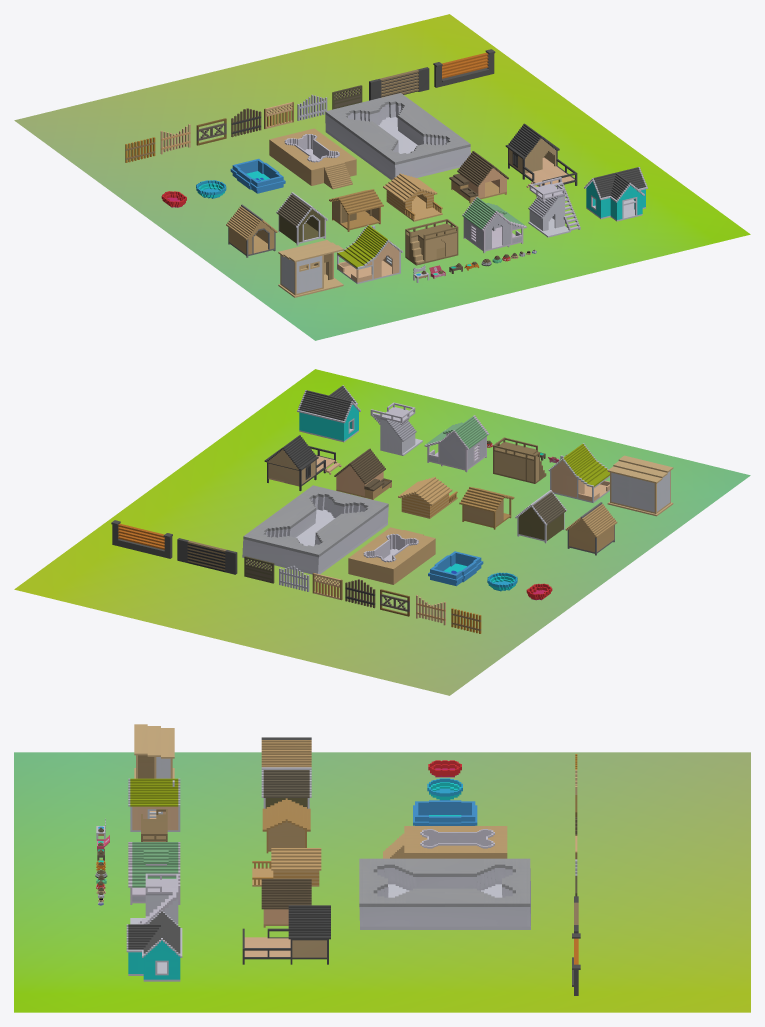
File: model_Simple Blocky Dog Houses Bowls And Pools Pack.fbx
The picture shows the model from 3 angles, top to bottom: view 1: azimuth 30°, elevation 25°; view 2: azimuth 150°, elevation 25°; view 3: azimuth 270°, elevation 25°; orthographic projection. The views are drawn at different scales.
Visible parts, largest first — view 1: grass, dog_pool_05, dog_pool_04, dog_house_07, dog_house_12, dog_house_08, dog_house_06, dog_house_10, dog_house_11, dog_house_09, dog_house_05, dog_house_04 (+12 smaller); view 2: grass, dog_pool_05, dog_pool_04, dog_house_07, dog_house_12, dog_house_08, dog_house_10, dog_house_06, dog_house_05, dog_house_09, dog_house_02, dog_house_01 (+12 smaller); view 3: grass, dog_pool_05, dog_pool_04, dog_house_06, dog_house_12, dog_house_08, dog_house_10, dog_house_07, dog_house_03, dog_house_04, dog_house_05, dog_house_02 (+6 smaller).
Boxes of the visible parts, x1=… form: grass: x1=14, y1=14, x2=750, y2=340; dog_pool_05: x1=325, y1=93, x2=470, y2=179; dog_pool_04: x1=269, y1=128, x2=356, y2=189; dog_house_07: x1=278, y1=240, x2=343, y2=297; dog_house_12: x1=584, y1=167, x2=647, y2=221; dog_house_08: x1=337, y1=225, x2=402, y2=283; dog_house_06: x1=505, y1=123, x2=577, y2=188; dog_house_10: x1=462, y1=197, x2=526, y2=253; dog_house_11: x1=528, y1=177, x2=580, y2=237; dog_house_09: x1=405, y1=219, x2=458, y2=265; dog_house_05: x1=449, y1=151, x2=508, y2=203; dog_house_04: x1=383, y1=173, x2=442, y2=221; grass: x1=14, y1=369, x2=750, y2=695; dog_pool_05: x1=242, y1=485, x2=388, y2=574; dog_pool_04: x1=348, y1=527, x2=435, y2=584; dog_house_07: x1=607, y1=455, x2=673, y2=516; dog_house_12: x1=297, y1=385, x2=360, y2=442; dog_house_08: x1=548, y1=443, x2=609, y2=502; dog_house_10: x1=424, y1=415, x2=489, y2=472; dog_house_06: x1=264, y1=435, x2=341, y2=490; dog_house_05: x1=334, y1=448, x2=391, y2=499; dog_house_09: x1=493, y1=437, x2=546, y2=483; dog_house_02: x1=515, y1=490, x2=566, y2=543; dog_house_01: x1=565, y1=502, x2=617, y2=555; grass: x1=14, y1=752, x2=750, y2=1012; dog_pool_05: x1=359, y1=858, x2=530, y2=929; dog_pool_04: x1=383, y1=826, x2=507, y2=858; dog_house_06: x1=242, y1=905, x2=330, y2=964; dog_house_12: x1=126, y1=910, x2=182, y2=981; dog_house_08: x1=128, y1=778, x2=180, y2=831; dog_house_10: x1=128, y1=842, x2=180, y2=904; dog_house_07: x1=134, y1=724, x2=174, y2=778; dog_house_03: x1=262, y1=798, x2=310, y2=853; dog_house_04: x1=252, y1=848, x2=321, y2=886; dog_house_05: x1=261, y1=879, x2=311, y2=927; dog_house_02: x1=261, y1=767, x2=311, y2=808.
Size of the model in its own units: 2991 by 262 by 3581.
Materials: 1 (1 with a texture image).
